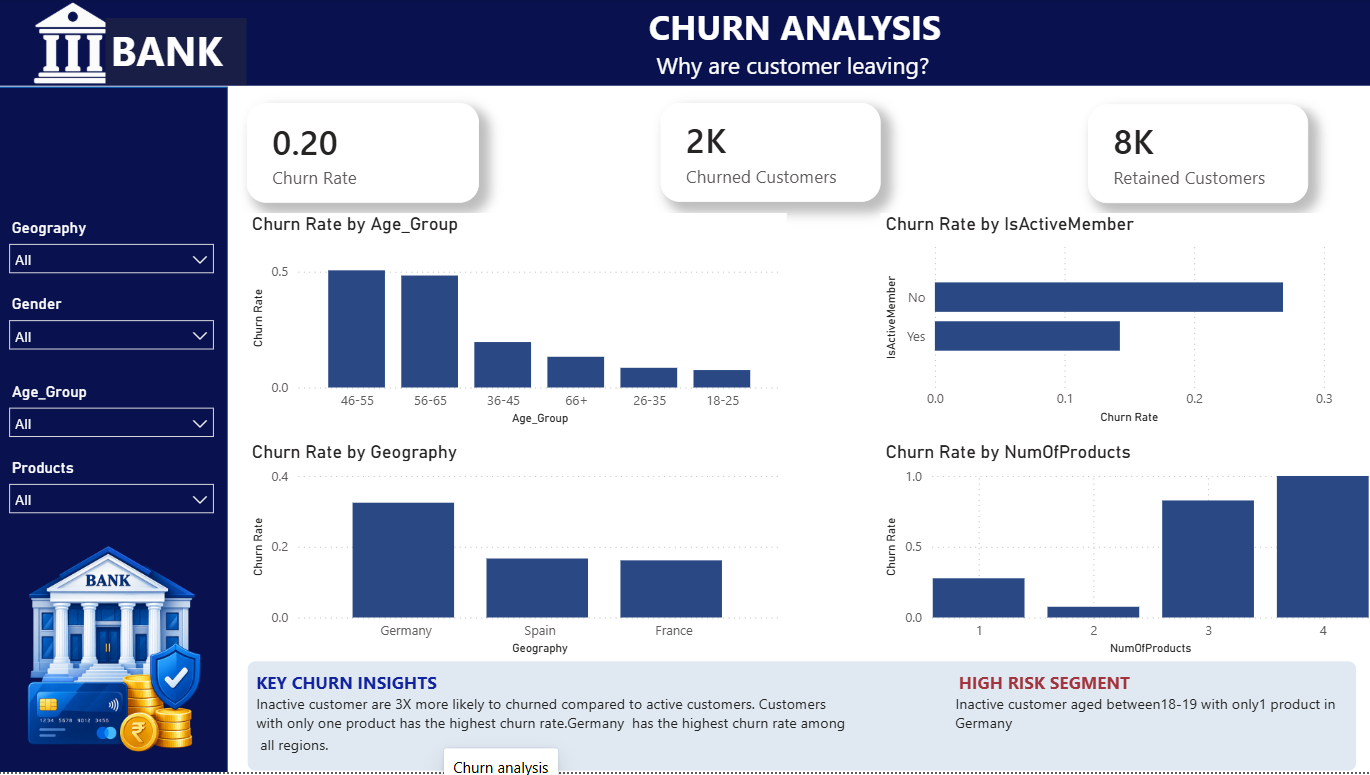

The page's visual inventory and layout, read from the dashboard file:
{"tool":"powerbi","page":{"name":"Churn analysis","canvas":[1280,720],"ordinal":2},"visuals":[{"type":"textbox","box":[0,0,1280,81.7],"z":0},{"type":"cardVisual","title":"Total Customers","fields":{"Data":["Bank_Customer_Churn_Cleaned.Churn Rate"]},"box":[231.4,97.7,216.3,93],"z":1000},{"type":"cardVisual","fields":{"Data":["Bank_Customer_Churn_Cleaned.Churned Customers"]},"box":[616.3,97.7,204.7,91.9],"z":2000},{"type":"cardVisual","fields":{"Data":["Bank_Customer_Churn_Cleaned.Retained Customers"]},"box":[1014,98.8,204.7,91.9],"z":3000},{"type":"shape","box":[0,82.6,214,638.4],"z":4000},{"type":"clusteredColumnChart","fields":{"Category":["Bank_Customer_Churn_Cleaned.Age_Group"],"Y":["Bank_Customer_Churn_Cleaned.Churn Rate"]},"box":[231.4,200,502.3,202.3],"z":5000},{"type":"clusteredBarChart","fields":{"Category":["Bank_Customer_Churn_Cleaned.IsActiveMember"],"Y":["Bank_Customer_Churn_Cleaned.Churn Rate"]},"box":[820.9,200,425.6,201.2],"z":6000},{"type":"clusteredColumnChart","fields":{"Category":["Bank_Customer_Churn_Cleaned.Geography"],"Y":["Bank_Customer_Churn_Cleaned.Churn Rate"]},"box":[231.4,411.6,502.3,204.7],"z":7000},{"type":"clusteredColumnChart","fields":{"Category":["Bank_Customer_Churn_Cleaned.NumOfProducts"],"Y":["Bank_Customer_Churn_Cleaned.Churn Rate"]},"box":[820.9,411.6,459.3,204.7],"z":8000},{"type":"image","box":[0,1.2,139.3,81.7],"z":9000},{"type":"slicer","fields":{"Values":["Bank_Customer_Churn_Cleaned.Geography"]},"box":[0,200,210.5,80.2],"z":10000},{"type":"slicer","fields":{"Values":["Bank_Customer_Churn_Cleaned.Gender"]},"box":[0,270.9,210.5,80.2],"z":11000},{"type":"slicer","fields":{"Values":["Bank_Customer_Churn_Cleaned.Age_Group"]},"box":[0,352.3,210.5,80.2],"z":12000},{"type":"slicer","fields":{"Values":["Bank_Customer_Churn_Cleaned.NumOfProducts"]},"box":[0,423.3,210.5,80.2],"z":13000},{"type":"image","box":[0,464,214,255.8],"z":14000},{"type":"textbox","box":[100,18.6,131.4,62.8],"z":15000},{"type":"textbox","box":[231.4,616.3,1032.6,103.5],"z":16000}]}

Visuals, with their boxes in screenshot pixels (x1, y1, x2, y2), scaled from the page's 1280x720 canvas onto the 1370x775 screenshot:
textbox: rect(0, 0, 1369, 88)
"Total Customers" cardVisual: rect(248, 105, 479, 205)
cardVisual - Bank_Customer_Churn_Cleaned.Churned Customers: rect(660, 105, 879, 204)
cardVisual - Bank_Customer_Churn_Cleaned.Retained Customers: rect(1085, 106, 1304, 205)
shape: rect(0, 89, 229, 774)
clusteredColumnChart - Bank_Customer_Churn_Cleaned.Age_Group x Bank_Customer_Churn_Cleaned.Churn Rate: rect(248, 215, 785, 433)
clusteredBarChart - Bank_Customer_Churn_Cleaned.IsActiveMember x Bank_Customer_Churn_Cleaned.Churn Rate: rect(879, 215, 1334, 432)
clusteredColumnChart - Bank_Customer_Churn_Cleaned.Geography x Bank_Customer_Churn_Cleaned.Churn Rate: rect(248, 443, 785, 663)
clusteredColumnChart - Bank_Customer_Churn_Cleaned.NumOfProducts x Bank_Customer_Churn_Cleaned.Churn Rate: rect(879, 443, 1369, 663)
image: rect(0, 1, 149, 89)
slicer - Bank_Customer_Churn_Cleaned.Geography: rect(0, 215, 225, 302)
slicer - Bank_Customer_Churn_Cleaned.Gender: rect(0, 292, 225, 378)
slicer - Bank_Customer_Churn_Cleaned.Age_Group: rect(0, 379, 225, 466)
slicer - Bank_Customer_Churn_Cleaned.NumOfProducts: rect(0, 456, 225, 542)
image: rect(0, 499, 229, 774)
textbox: rect(107, 20, 248, 88)
textbox: rect(248, 663, 1353, 774)
